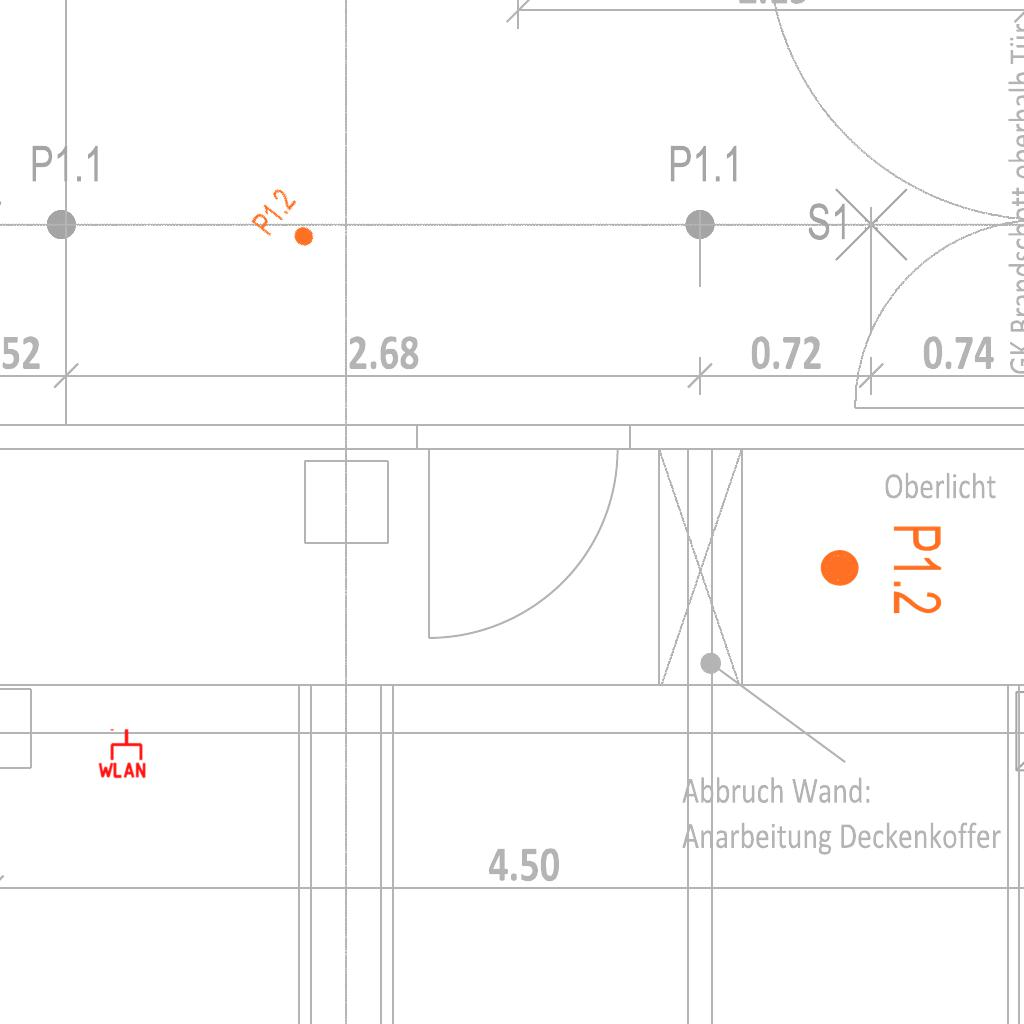Downlight_LED_Einbauleuchten_Flur: (817, 523, 945, 616), (248, 185, 328, 261)
WLAN: (96, 727, 148, 779)
